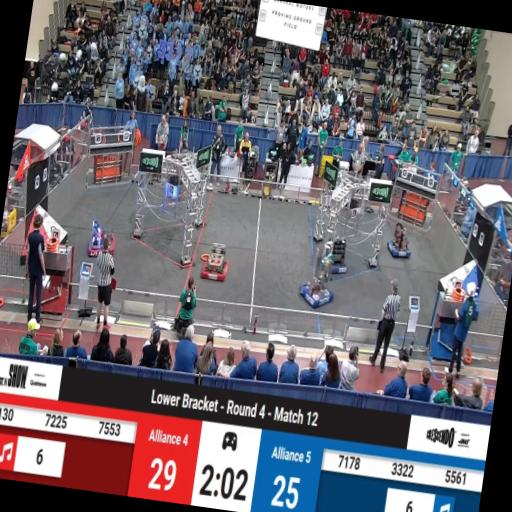robot: (86, 218, 118, 260), (200, 242, 232, 282), (300, 276, 336, 310), (325, 236, 353, 276), (386, 222, 414, 260)
